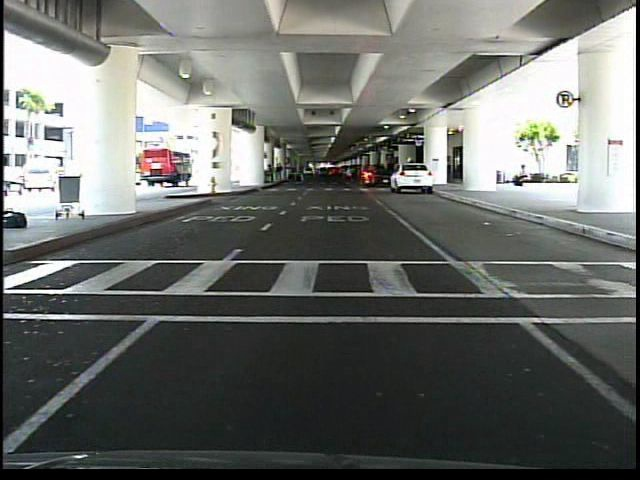person: (507, 160, 532, 192)
